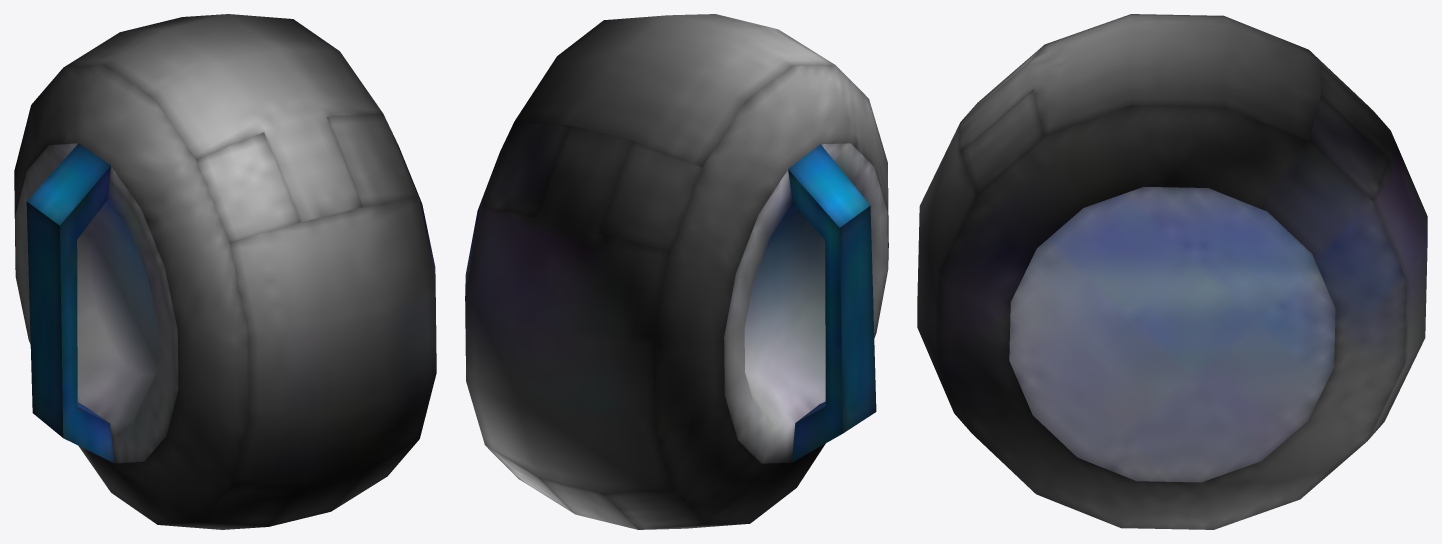
File: frontright1.obj
3 renders of one model, left to right at view 1: azimuth 30°, elevation 25°; view 2: azimuth 150°, elevation 25°; view 3: azimuth 270°, elevation 25°, orthographic.
Parts seen in each view (by area): view 1: Object013; view 2: Object013; view 3: Object013.
Boxes of the visible parts, x1,y1,x2,y2 form: Object013: (14, 14, 436, 529); Object013: (465, 14, 888, 529); Object013: (917, 14, 1427, 529).
Bounding box in the file's own units: 5.4 × 7.73 × 7.73.
Materials: 1 (1 with a texture image).
